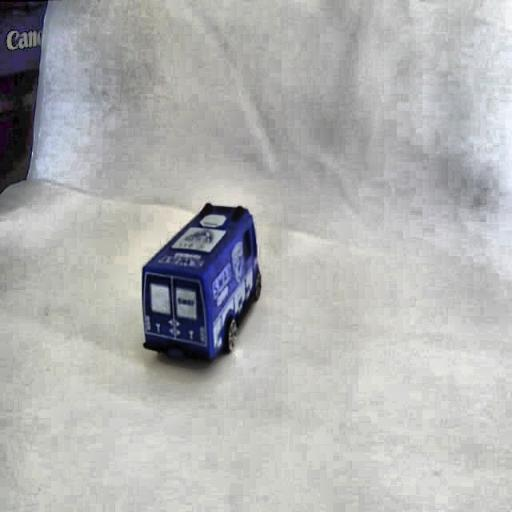police car: (140, 189, 265, 372)
